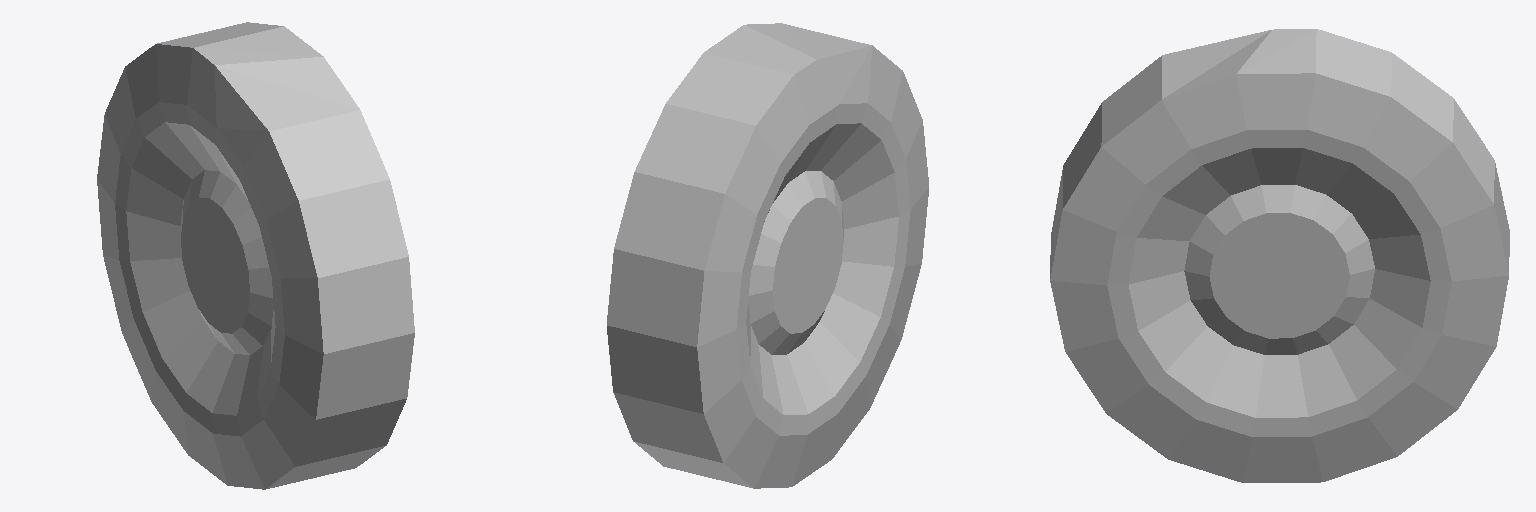
Rendered from wheel.obj.
The picture shows the model from 3 angles: view 1: azimuth 30°, elevation 25°; view 2: azimuth 150°, elevation 25°; view 3: azimuth 270°, elevation 25°; orthographic projection.
Size of the model in its own units: 0.1852 by 0.6393 by 0.6479.